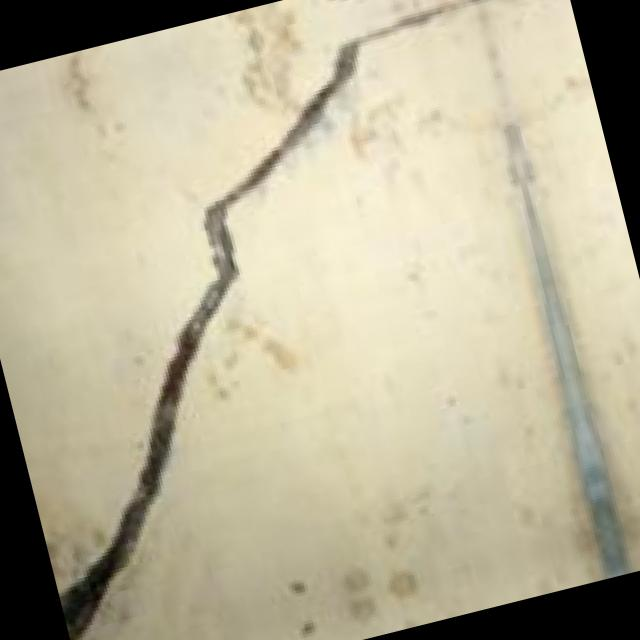crack: (0, 0, 518, 580)
